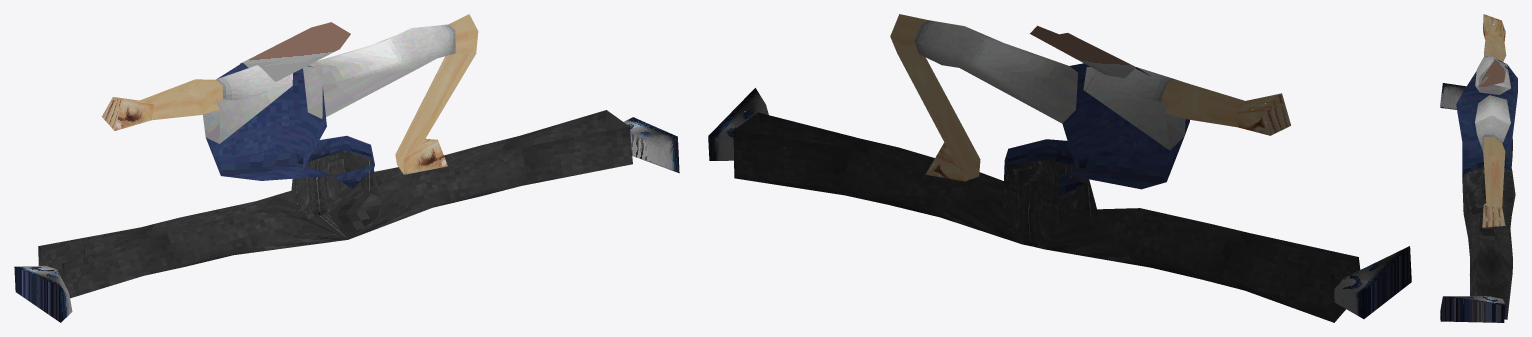
The model's file is CbluemanZ.obj.
3 renders of one model, left to right at view 1: azimuth 30°, elevation 25°; view 2: azimuth 150°, elevation 25°; view 3: azimuth 270°, elevation 25°, orthographic. The views are drawn at different scales.
Bounding box in the file's own units: 2167 × 681 × 335.
16 materials, 16 textured.
